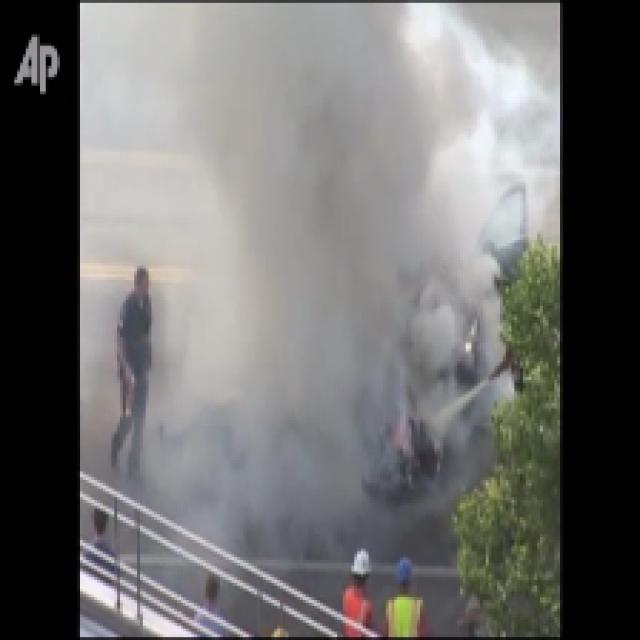smoke: (171, 20, 500, 474)
